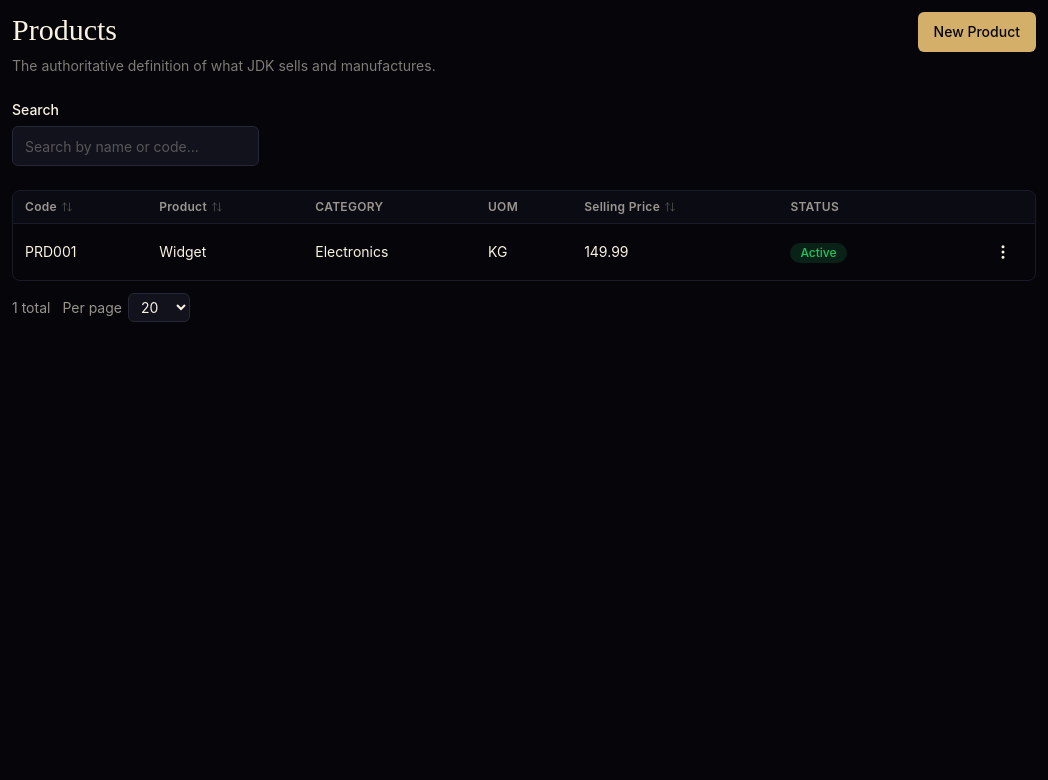
Test: ProductsPage › rejects a non-numeric selling price inline before submitting
Expected: the text "Widget" is shown, [147,224,303,280]
Click the button "New Product" at [977, 32], box [918,12,1036,52]
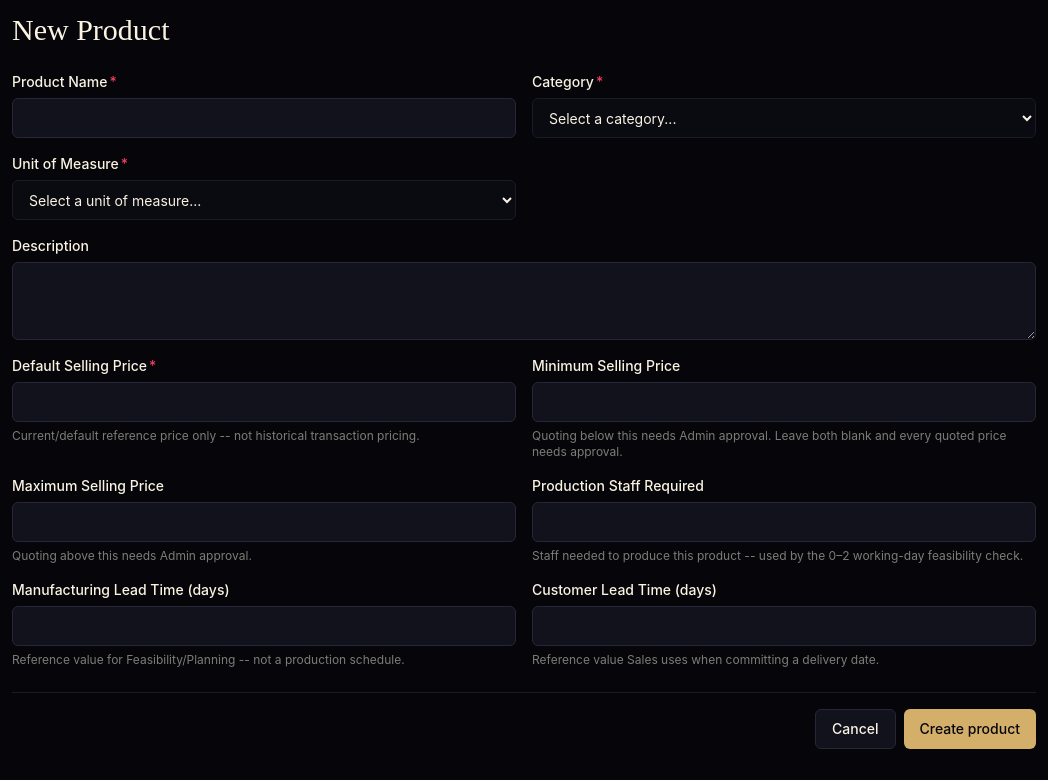
Type "Gizmo" into the field labelled "Product Name" at [264, 118], box [12,98,516,138]
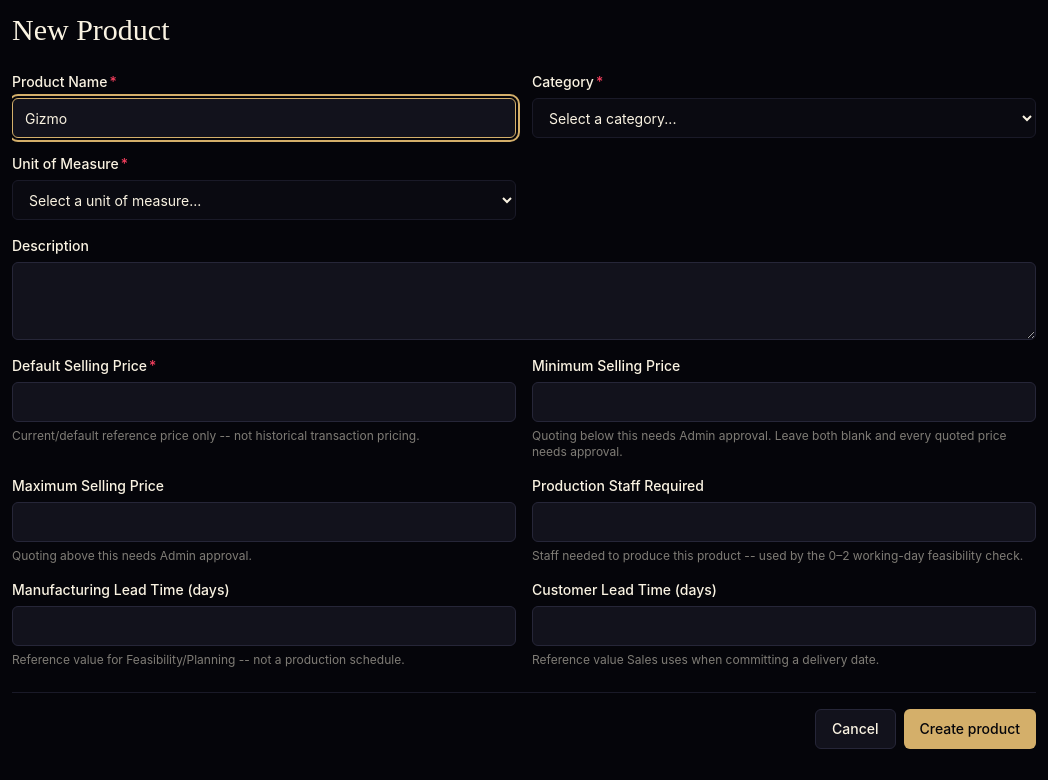
Select "Electronics" in the dropdown labelled "Category" at [784, 118], box [532,98,1036,138]
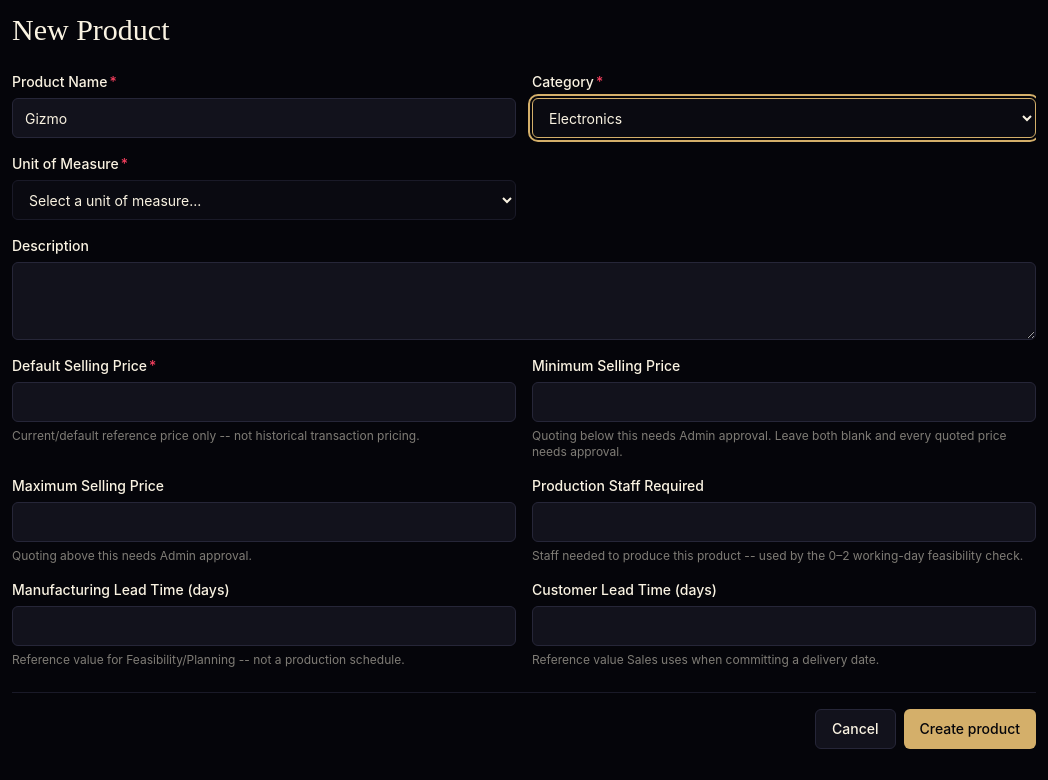
Select "Kilogram (KG)" in the dropdown labelled "Unit of Measure" at [264, 200], box [12,180,516,220]
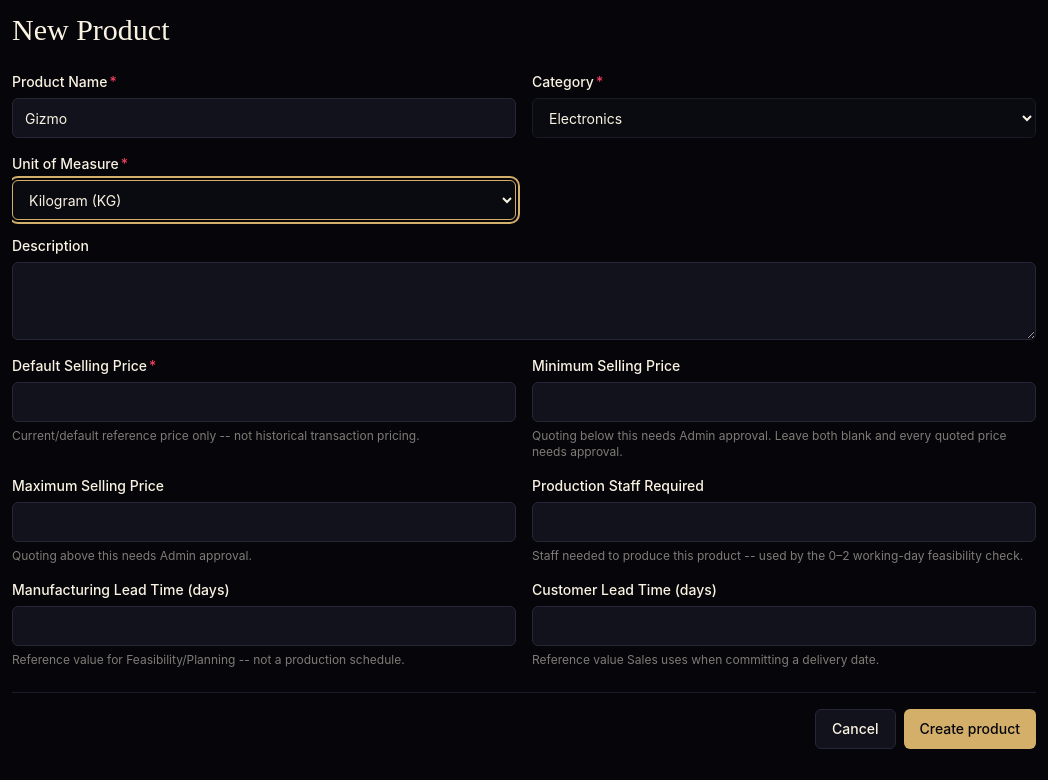
Type "not-a-number" into the field labelled "Default Selling Price" at [264, 402], box [12,382,516,422]
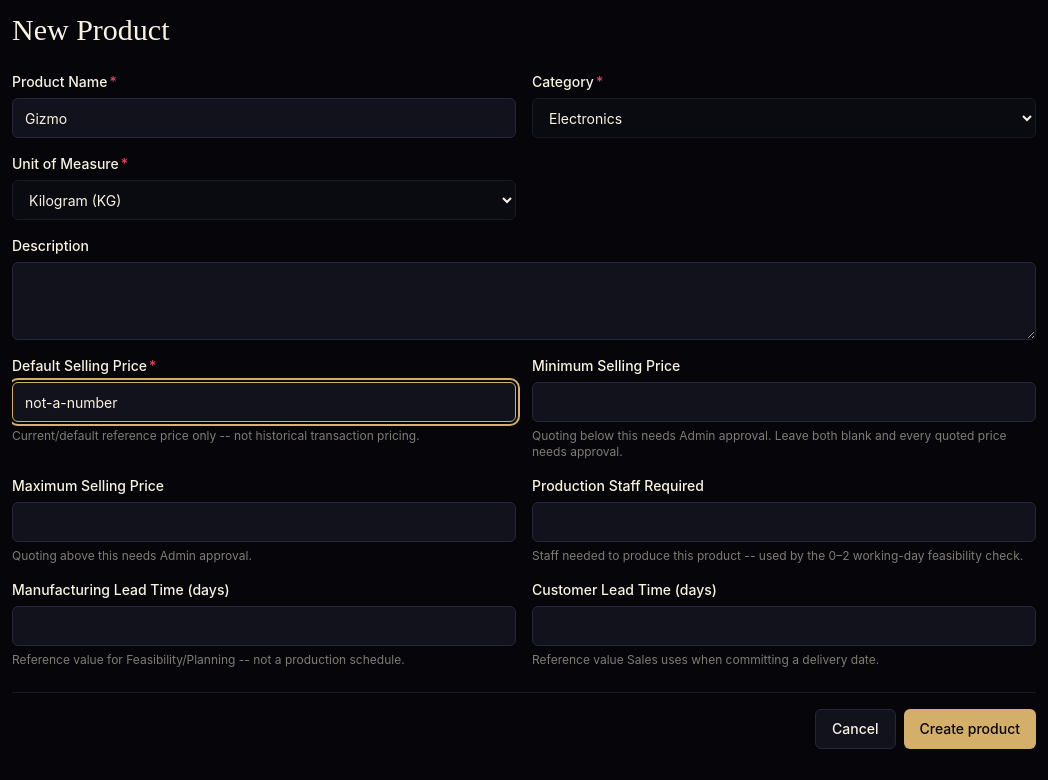
Click the button "Create product" at [970, 729], box [904,709,1036,749]
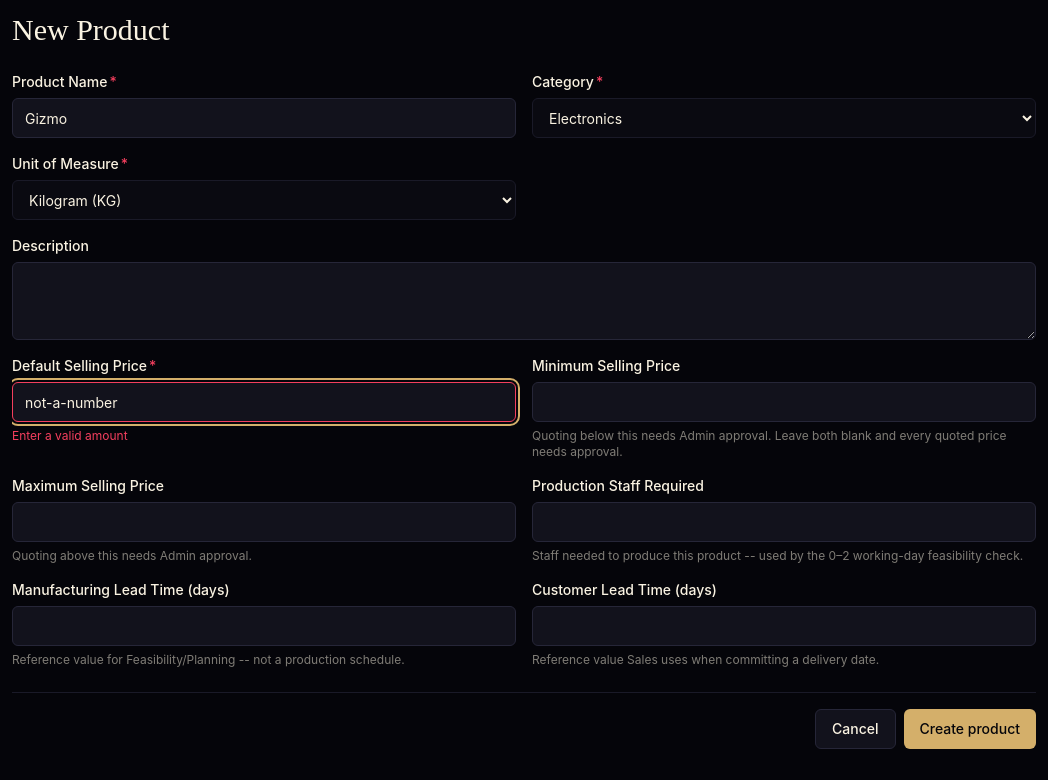
Expected: the text "Enter a valid amount" is shown, [12,428,128,443]
